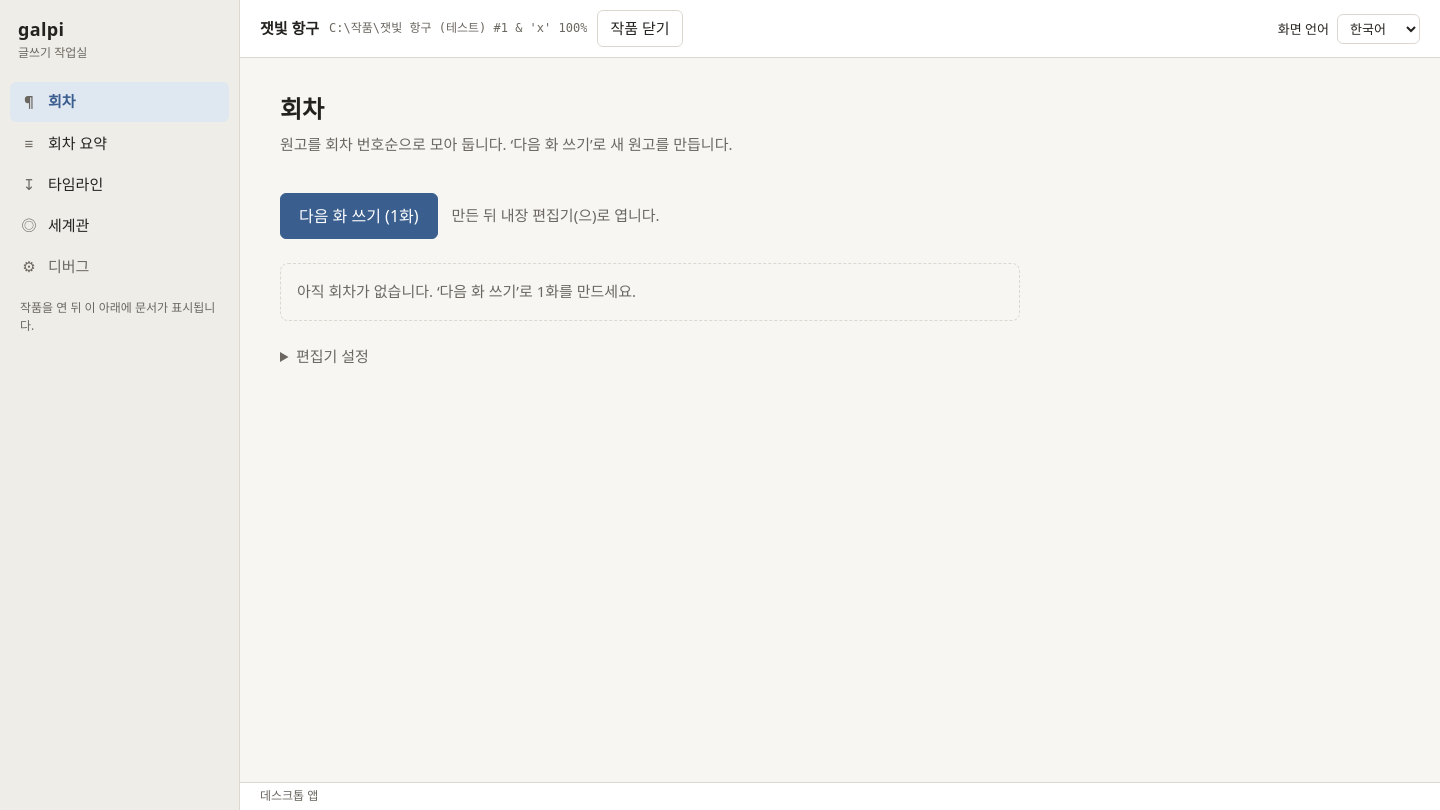
episodes › built-in editor as default: creates, stays in the app and shows the editor
The image size is (1440, 810).
Expected: the text "잿빛 항구" is shown, [260,17,319,40]
Expected: the text "만든 뒤 내장 편집기(으)로 엽니다." is shown, [452,204,660,228]
Click the button "다음 화 쓰기 (1화)": {"x": 359, "y": 216} [280,193,438,240]
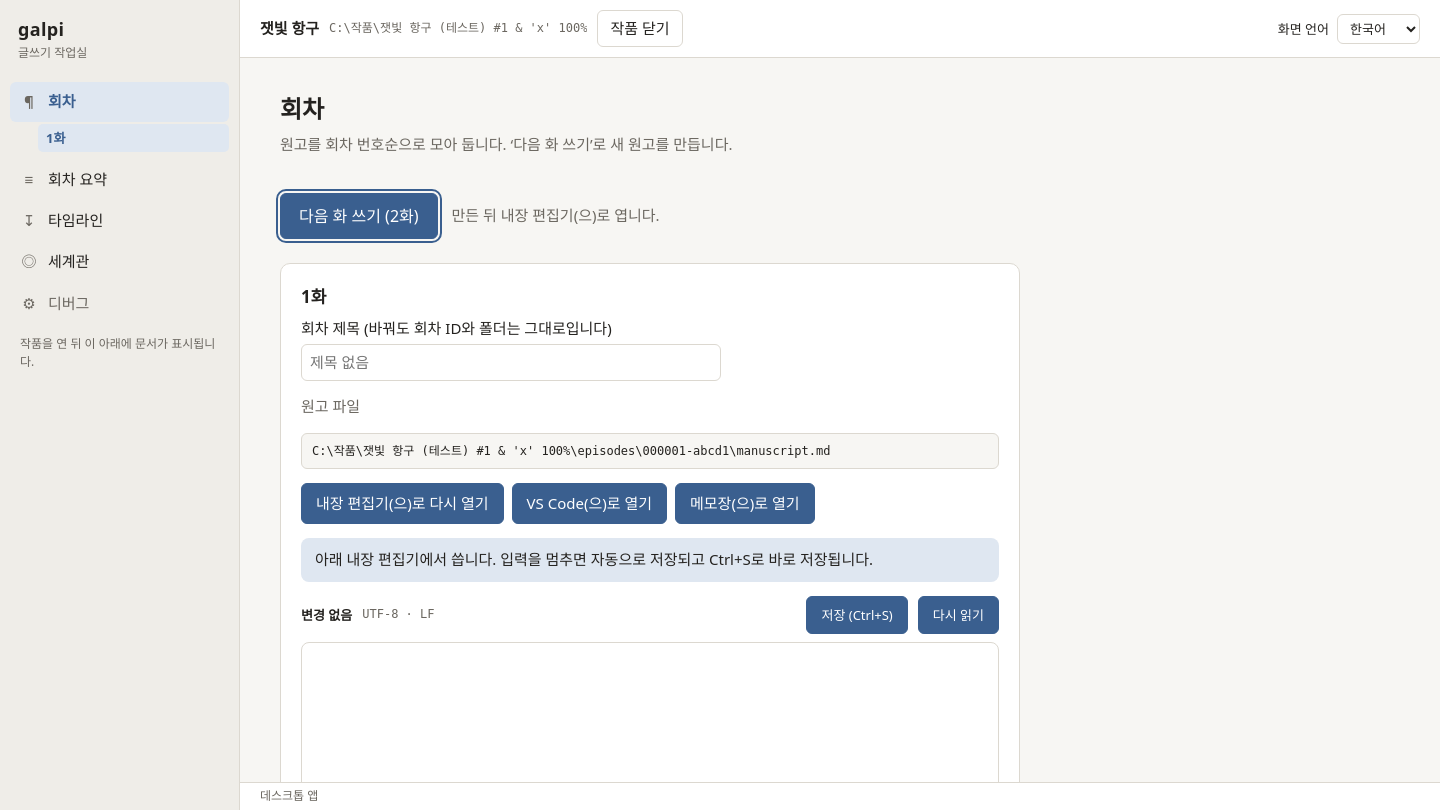
Expected: the text "아래 내장 편집기에서 씁니다. 입력을 멈추면 자동으로 저장되고 Ctrl+S로 바로 저장됩니다." is shown, [301,538,999,582]
Expected: the text "변경 없음" is shown, [301,605,352,625]
Expected: the button "VS Code(으)로 열기" is shown, [512,483,667,524]
